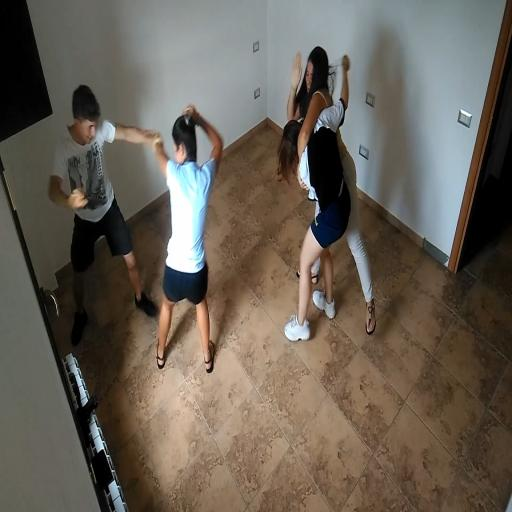violencia: (42, 68, 234, 380), (272, 38, 380, 348)
